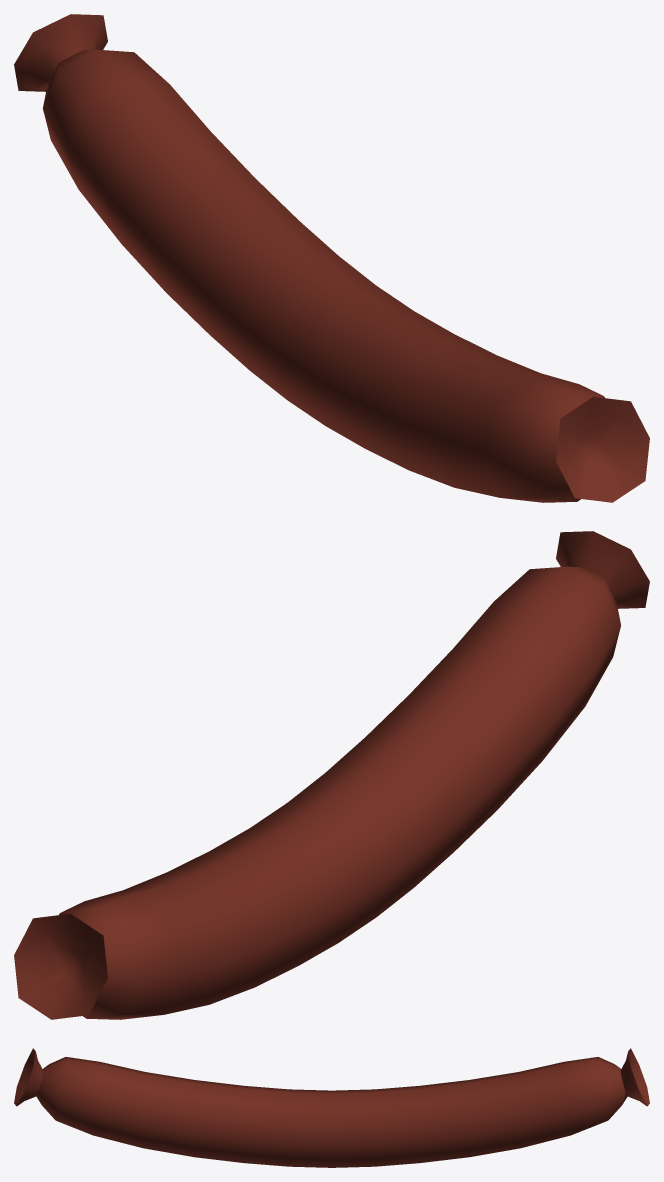
File: hotdog_einzeln.fbx
The picture shows the model from 3 angles, top to bottom: view 1: azimuth 30°, elevation 25°; view 2: azimuth 150°, elevation 25°; view 3: azimuth 270°, elevation 25°; orthographic projection. The views are drawn at different scales.
Parts seen in each view (by area): view 1: wurst_low_poly; view 2: wurst_low_poly; view 3: wurst_low_poly.
Boxes of the visible parts, <box> form: wurst_low_poly: <box>14,14,649,502</box>; wurst_low_poly: <box>14,531,649,1019</box>; wurst_low_poly: <box>14,1048,649,1167</box>.
Size of the model in its own units: 200 by 322 by 1639.
